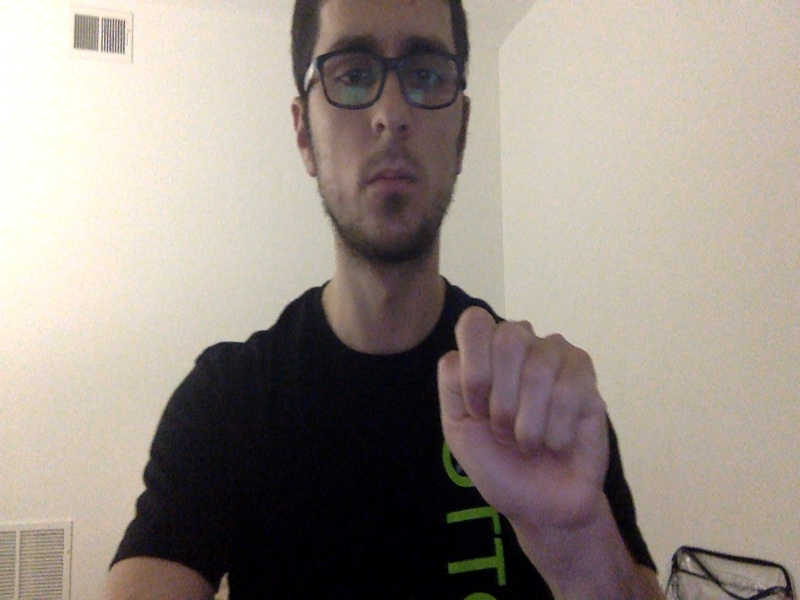0-hand: (438, 309, 616, 526)
